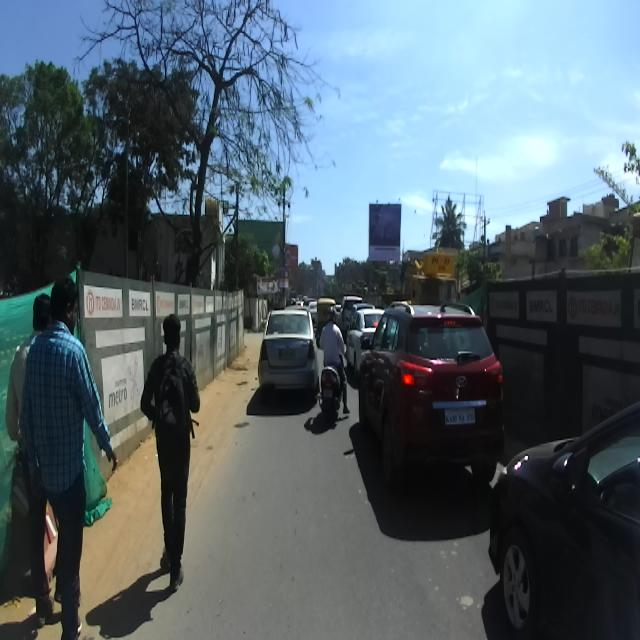car ahead at: (362, 292, 506, 497), (253, 305, 317, 396)
motorcycle ahead at: (316, 362, 354, 432)
person ahead at: (7, 282, 118, 636), (140, 310, 196, 593)
